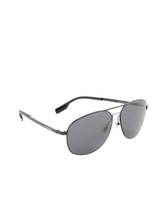glasses: (14, 93, 150, 155)
